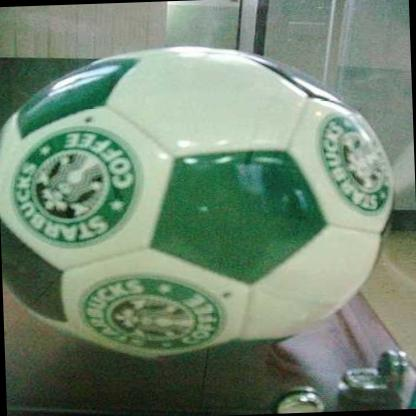ball: (0, 39, 403, 369)
